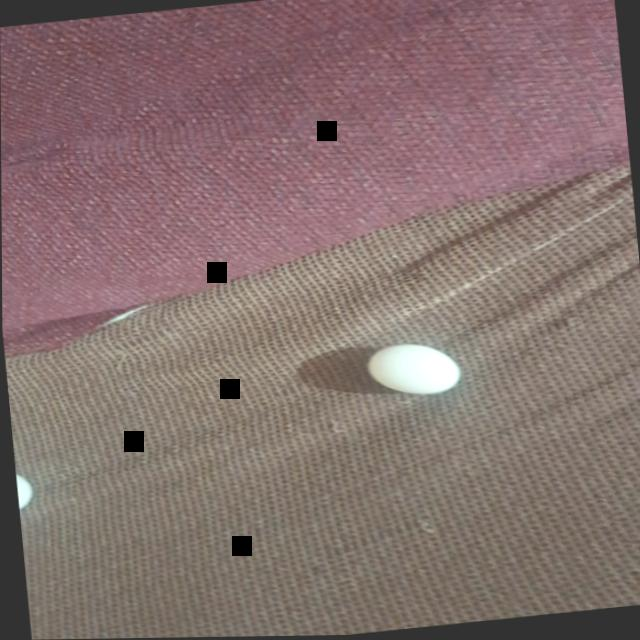eggs: (363, 335, 462, 399)
